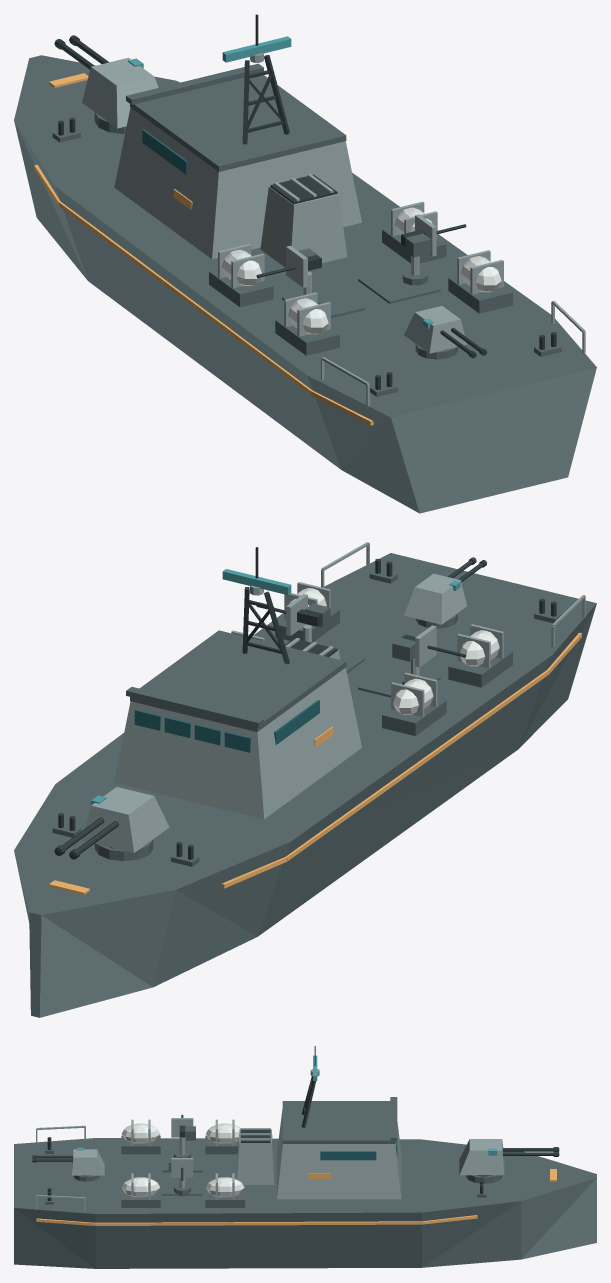
Rendered from ESC_PB_T0.fbx.
The picture shows the model from 3 angles, top to bottom: view 1: azimuth 30°, elevation 25°; view 2: azimuth 150°, elevation 25°; view 3: azimuth 270°, elevation 25°; orthographic projection. The views are drawn at different scales.
Visible parts, largest first — view 1: ContinuousHull, Deckhouse, Roof, FunnelEnclosure, PrimaryGunCupola, AftGunCupola, RoleHullStripe-1_1, GunnerStandingPlate.001, BridgeBrow, RaftCradle.001, RaftCradle.003, RaftCradle (+9 smaller); view 2: ContinuousHull, Deckhouse, Roof, PrimaryGunCupola, AftGunCupola, RoleHullStripe-1_1, BridgeBrow, RaftCradle, RaftCradle.001, GunnerStandingPlate, CapsuleLifeRaft, CapsuleLifeRaft.001 (+5 smaller); view 3: ContinuousHull, Deckhouse, Roof, FunnelEnclosure, PrimaryGunCupola, RoleHullStripe1_1, AftGunCupola, CapsuleLifeRaft.003, CapsuleLifeRaft.001, CapsuleLifeRaft.002, BridgeSideGlass1, GunnerStandingPlate.001 (+10 smaller).
Part boxes in pixels (box(x1,y1,x2,y2)): ContinuousHull: box(14, 55, 596, 513); Deckhouse: box(114, 107, 361, 259); Roof: box(130, 75, 346, 171); FunnelEnclosure: box(260, 186, 347, 267); PrimaryGunCupola: box(82, 57, 158, 128); AftGunCupola: box(404, 306, 467, 353); RoleHullStripe-1_1: box(58, 201, 312, 394); GunnerStandingPlate.001: box(358, 266, 440, 303); BridgeBrow: box(126, 63, 263, 104); RaftCradle.001: box(275, 318, 339, 355); RaftCradle.003: box(448, 276, 512, 313); RaftCradle: box(209, 269, 273, 307); ContinuousHull: box(14, 553, 596, 1017); Deckhouse: box(114, 667, 361, 819); Roof: box(130, 630, 346, 731); PrimaryGunCupola: box(82, 787, 169, 852); AftGunCupola: box(404, 573, 467, 624); RoleHullStripe-1_1: box(286, 670, 548, 861); BridgeBrow: box(126, 687, 263, 727); RaftCradle: box(382, 698, 446, 735); RaftCradle.001: box(448, 650, 512, 687); GunnerStandingPlate: box(358, 664, 440, 697); CapsuleLifeRaft: box(393, 678, 433, 714); CapsuleLifeRaft.001: box(460, 630, 499, 666); ContinuousHull: box(14, 1138, 596, 1268); Deckhouse: box(277, 1109, 401, 1199); Roof: box(282, 1101, 395, 1143); FunnelEnclosure: box(237, 1129, 274, 1184); PrimaryGunCupola: box(459, 1139, 504, 1175); RoleHullStripe1_1: box(95, 1221, 421, 1225); AftGunCupola: box(72, 1149, 104, 1175); CapsuleLifeRaft.003: box(121, 1177, 160, 1197); CapsuleLifeRaft.001: box(121, 1123, 159, 1143); CapsuleLifeRaft.002: box(206, 1177, 244, 1197); BridgeSideGlass1: box(320, 1151, 376, 1160); GunnerStandingPlate.001: box(162, 1178, 202, 1195).
Size of the model in its own units: 278 by 333 by 900.
